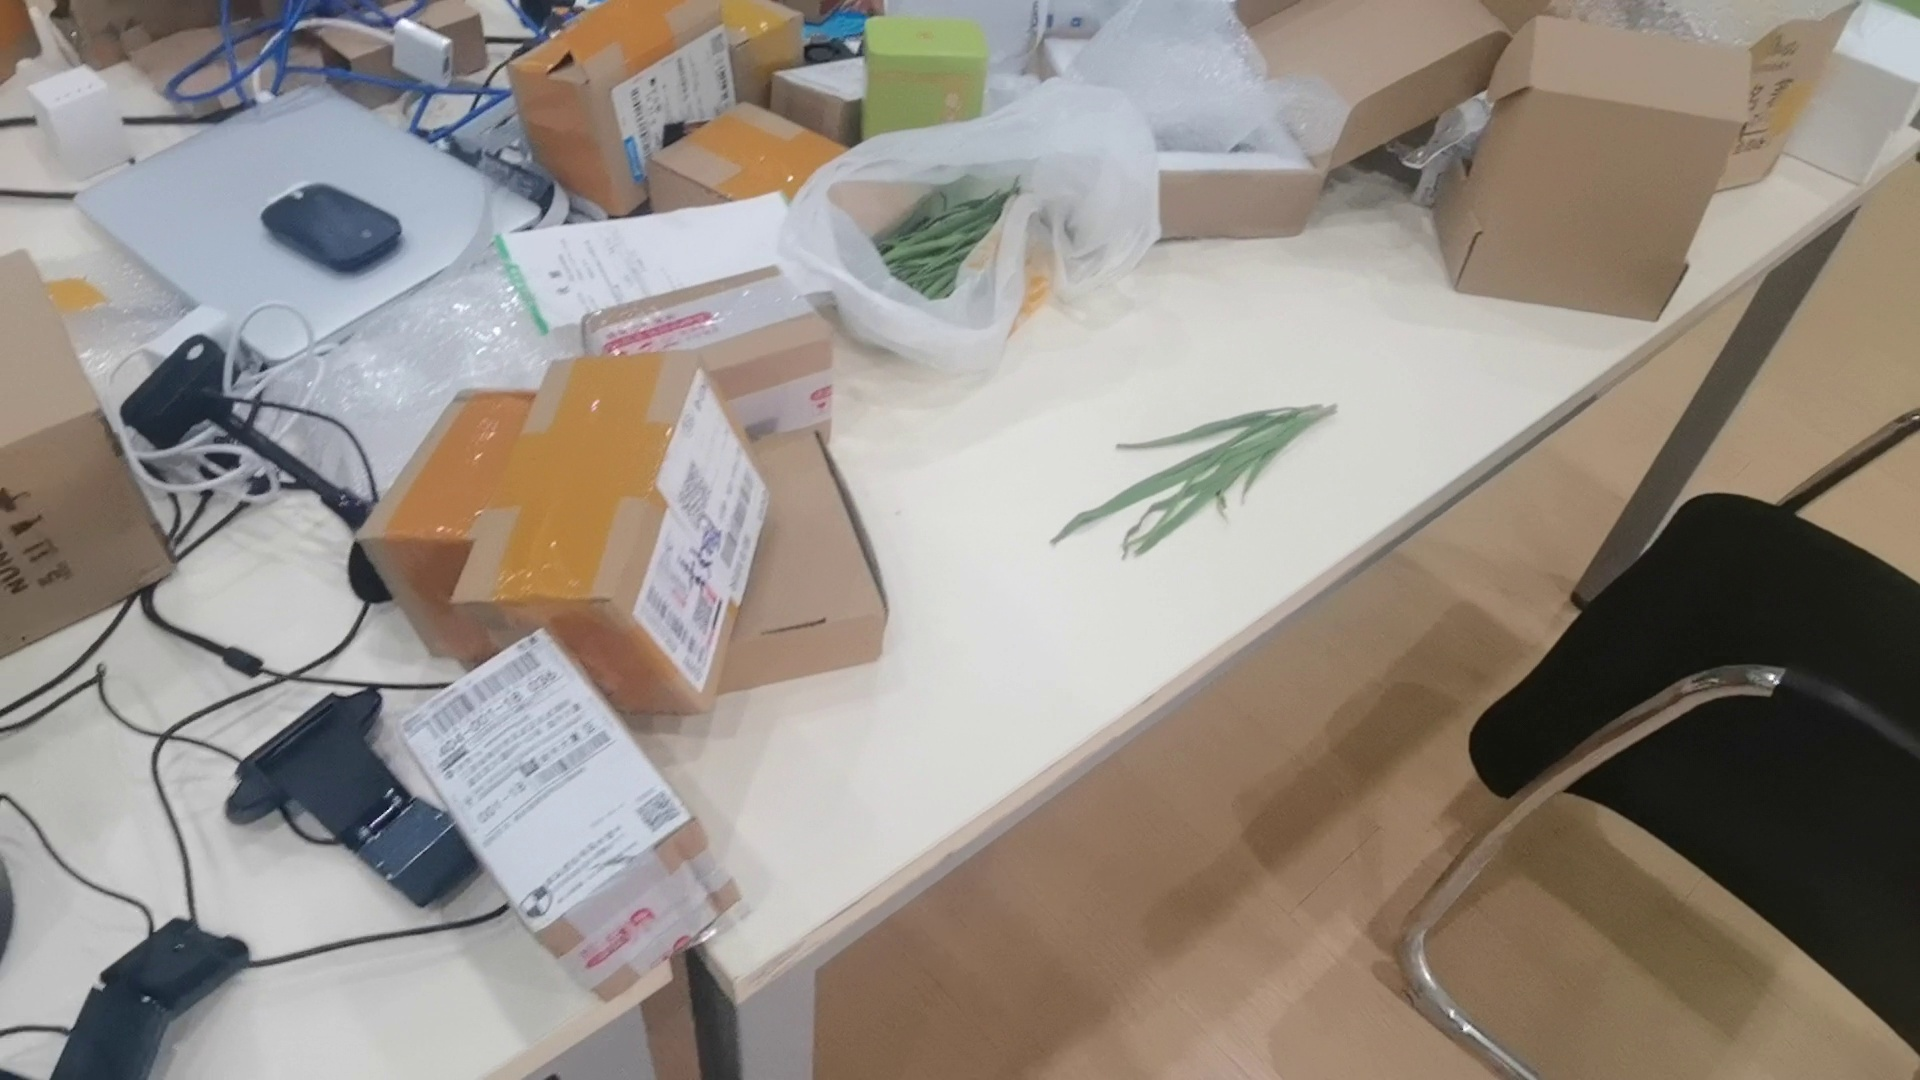chives: (1048, 402, 1342, 555)
